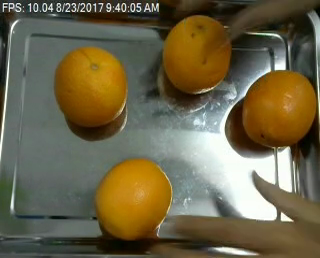Orange: (93, 156, 170, 237), (54, 45, 128, 126), (241, 69, 317, 147)
